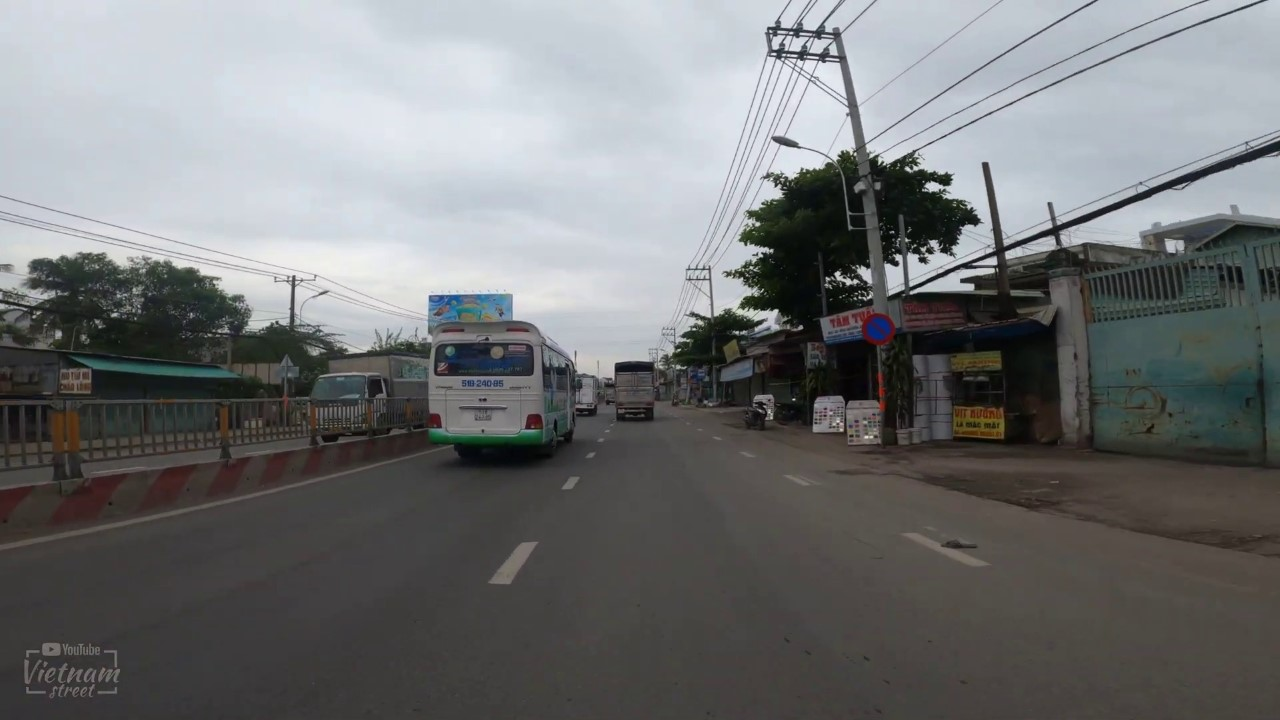cam_do_xe: (862, 312, 895, 346)
